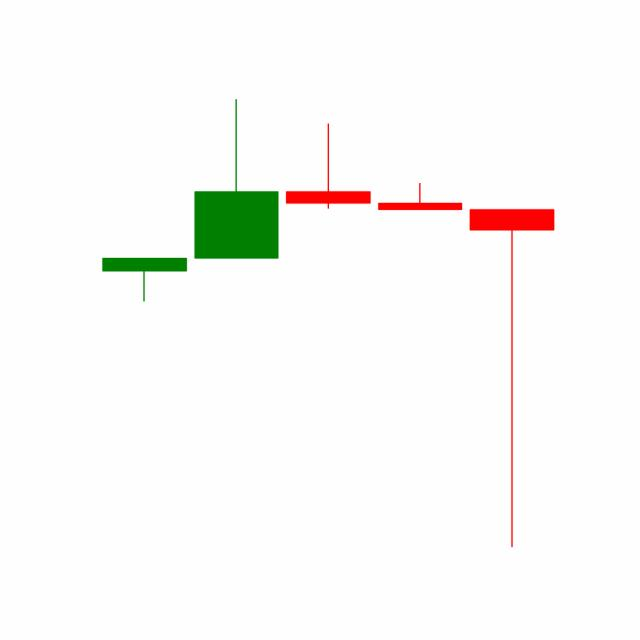Hammer: (464, 204, 558, 550)
